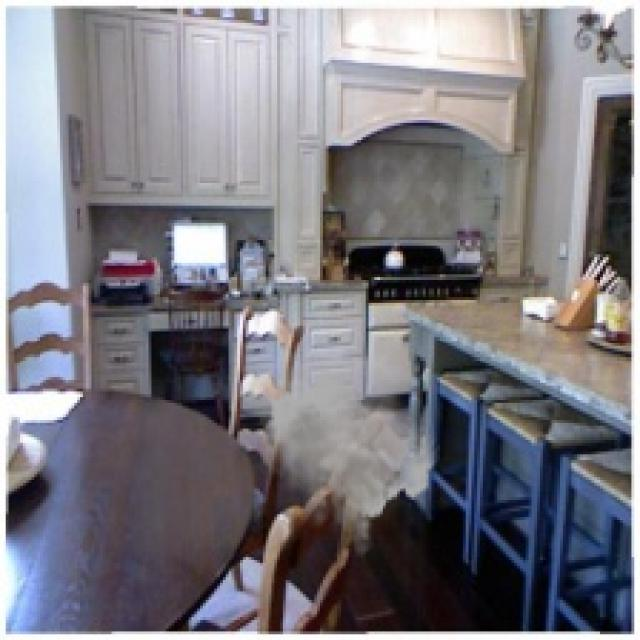Smoke: (235, 343, 440, 560)
